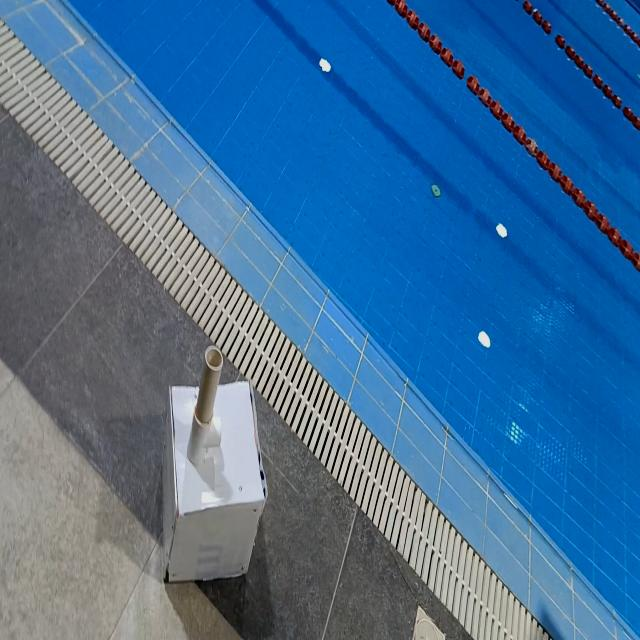Cube: (161, 378, 267, 583)
